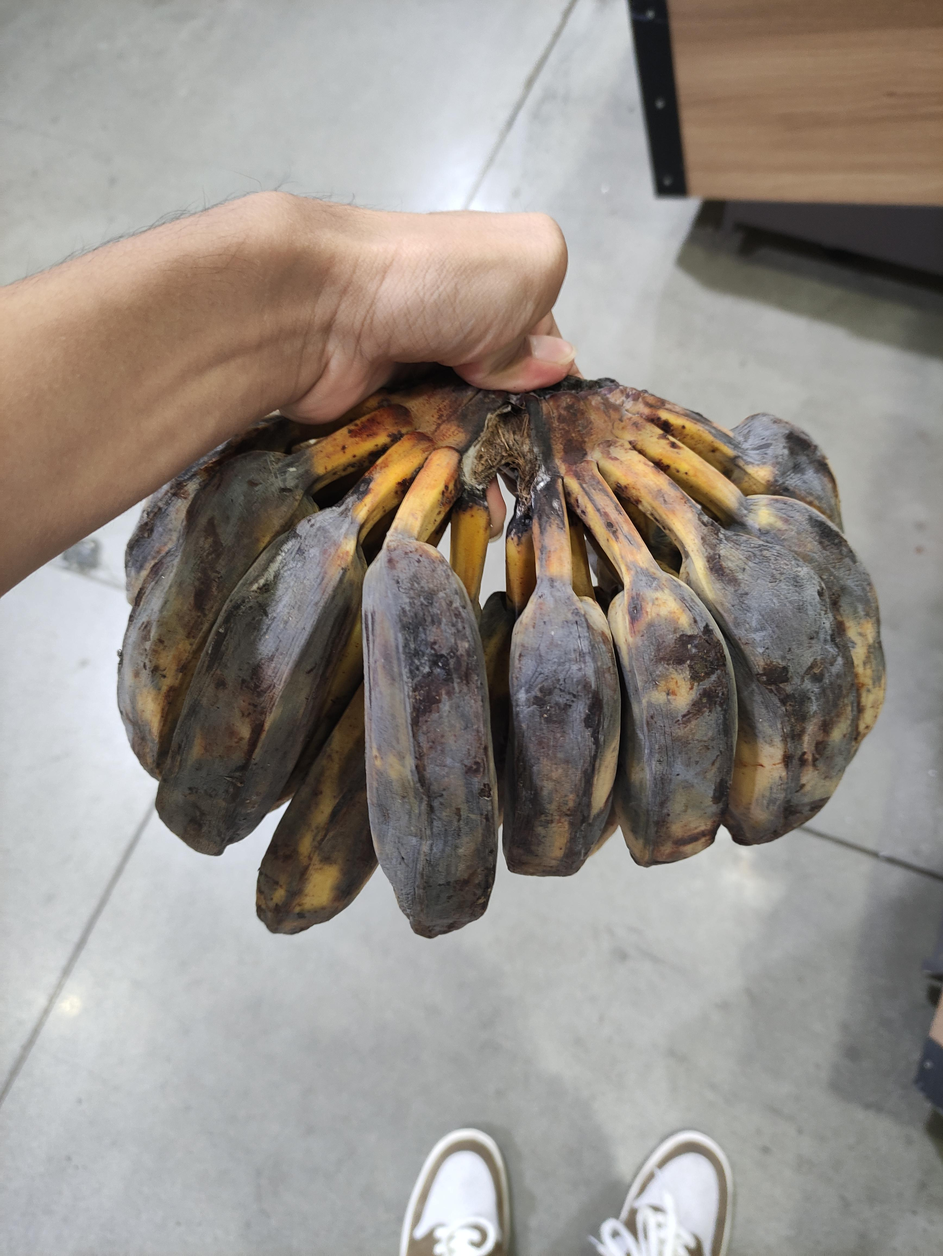overripe: (117, 414, 884, 939)
